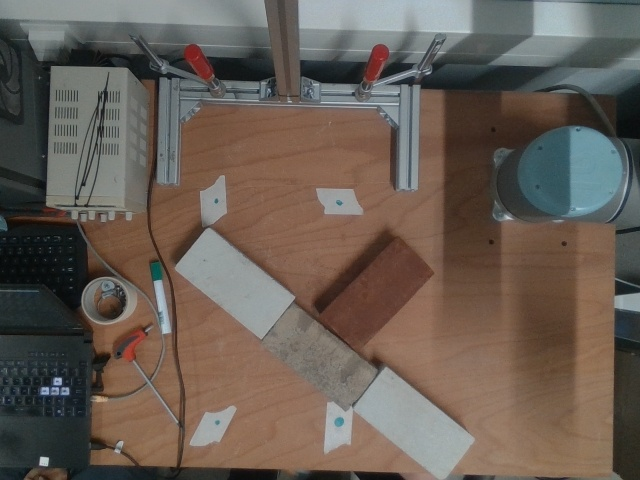brick: (351, 367, 474, 479), (176, 229, 295, 339), (319, 237, 430, 349), (264, 305, 378, 409)
